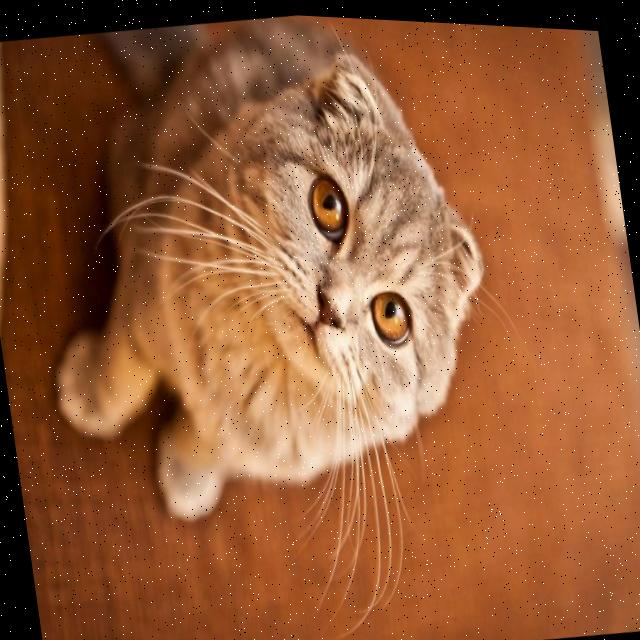Scottish Fold: (5, 0, 525, 560)
